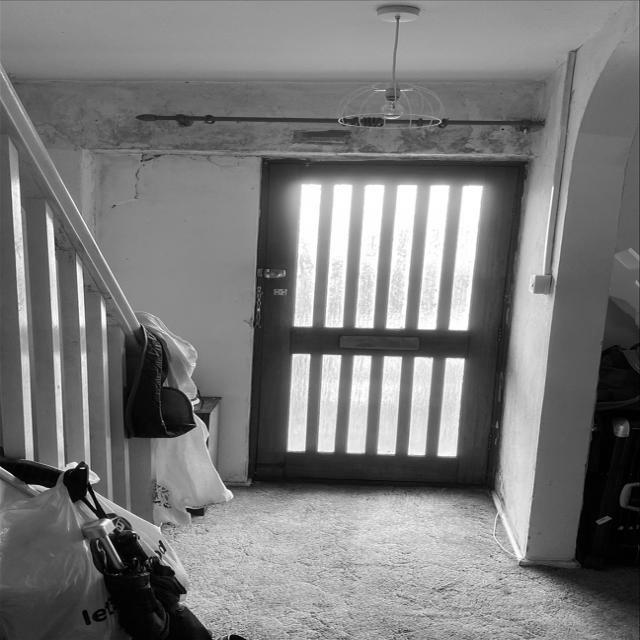stain marks: (4, 69, 560, 169)
